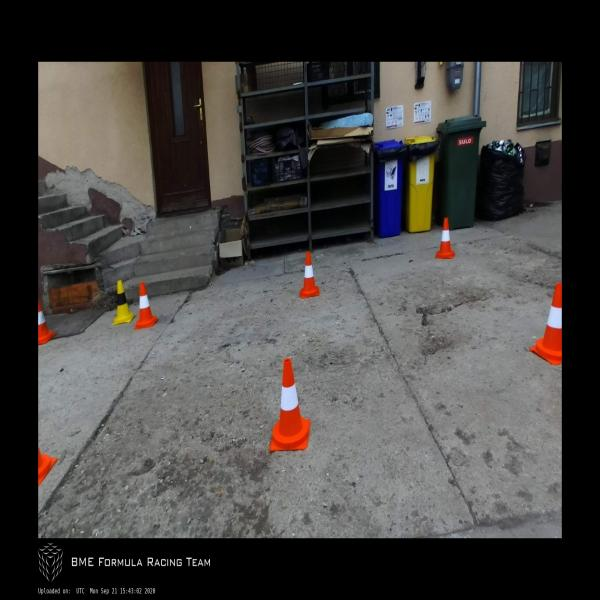orange_cone: (270, 359, 310, 450), (530, 284, 562, 364), (134, 282, 158, 329), (300, 252, 320, 298), (38, 297, 56, 344), (435, 218, 455, 258)
yellow_cone: (113, 280, 136, 326)
